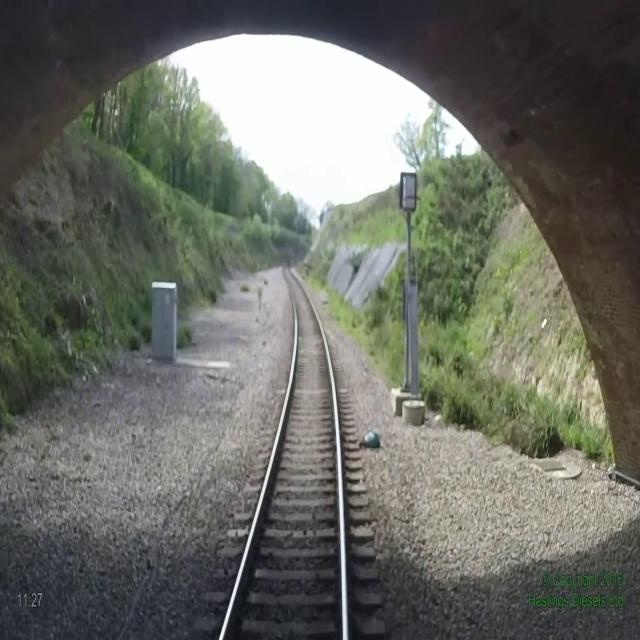rail-track: (223, 267, 342, 639)
